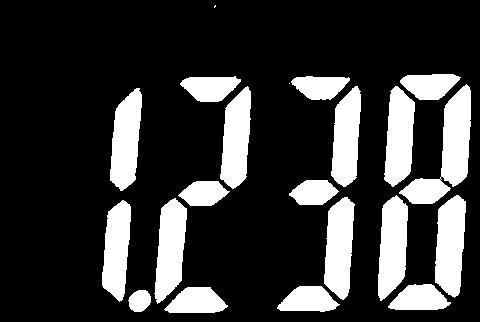1: (98, 88, 143, 300)
2: (153, 75, 254, 315)
3: (275, 72, 363, 317)
8: (376, 70, 472, 312)
dot: (127, 288, 153, 313)
